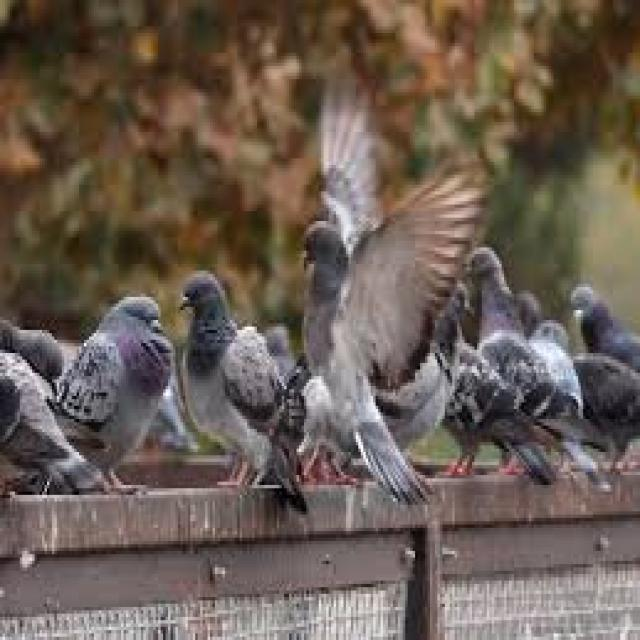pigeon: (304, 86, 479, 498), (469, 247, 605, 485), (180, 271, 284, 482), (54, 294, 173, 478), (0, 346, 111, 492), (376, 280, 467, 449)
